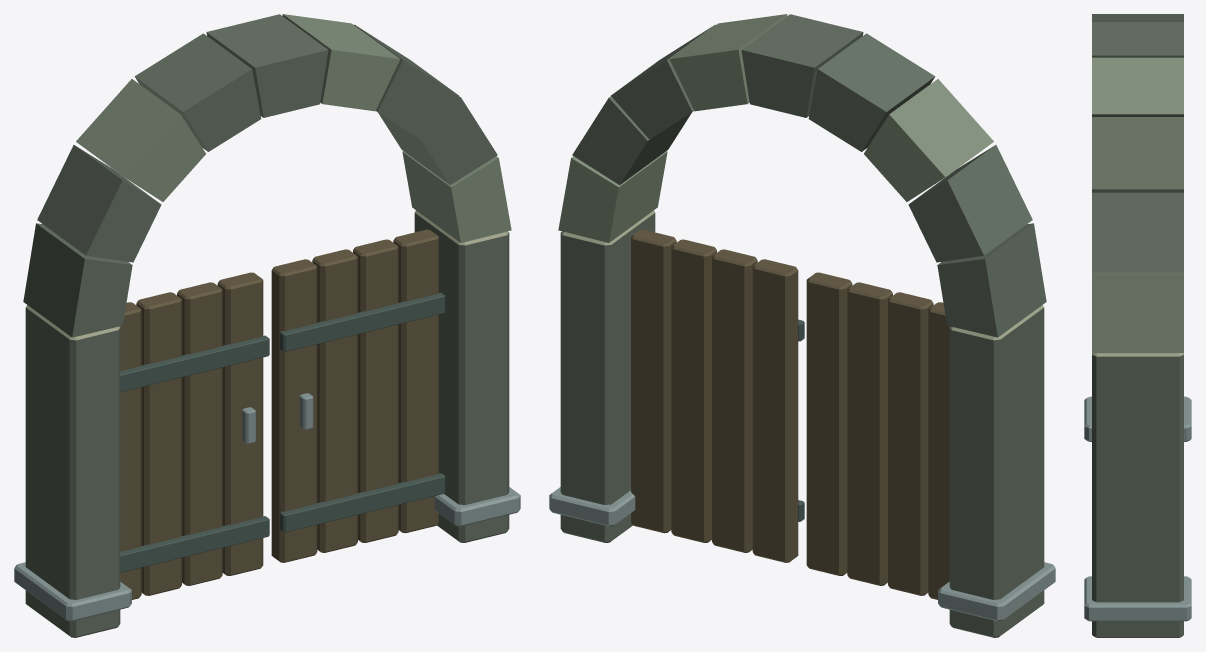
The model's file is doorway.glb.
The picture shows the model from 3 angles, left to right: view 1: azimuth 30°, elevation 25°; view 2: azimuth 150°, elevation 25°; view 3: azimuth 270°, elevation 25°; orthographic projection. The views are drawn at different scales.
Visible parts, largest first — view 1: doorway__body, doorway__leaf-right, doorway__leaf-left; view 2: doorway__body, doorway__leaf-right, doorway__leaf-left; view 3: doorway__body.
Boxes of the visible parts, box(x1,y1,x2,y2) form: doorway__body: box(14, 14, 520, 637); doorway__leaf-right: box(271, 229, 445, 562); doorway__leaf-left: box(119, 272, 269, 599); doorway__body: box(549, 14, 1055, 637); doorway__leaf-right: box(631, 229, 804, 562); doorway__leaf-left: box(806, 272, 950, 599); doorway__body: box(1084, 14, 1191, 637).
Size of the model in its own units: 2.69 by 2.98 by 0.58.
